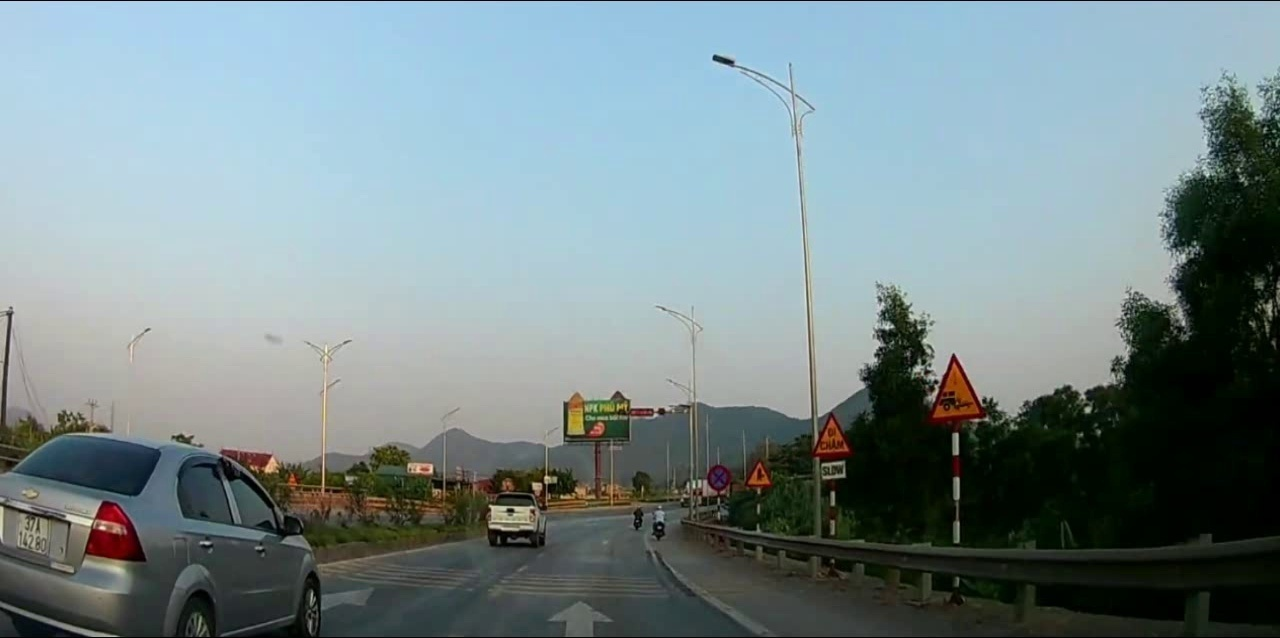Bien khac: (929, 352, 984, 423), (812, 409, 852, 458), (704, 465, 732, 492)
Giao nhau voi duong khong uu tien: (747, 460, 771, 488)
